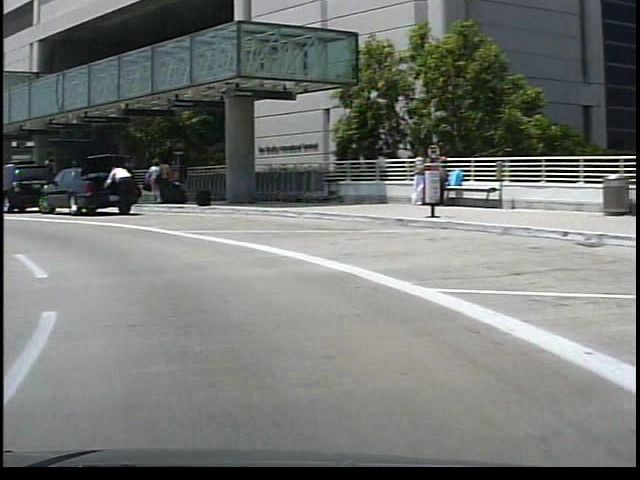person: (98, 165, 133, 221), (153, 156, 170, 208), (141, 160, 152, 202)
